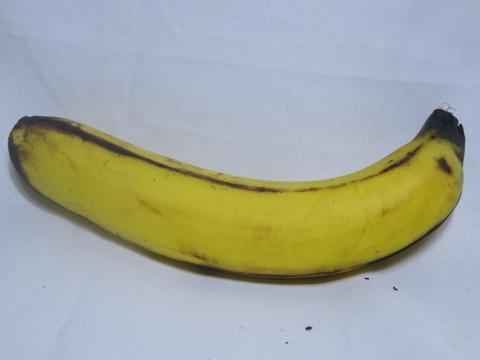ripe: (8, 79, 479, 295)
